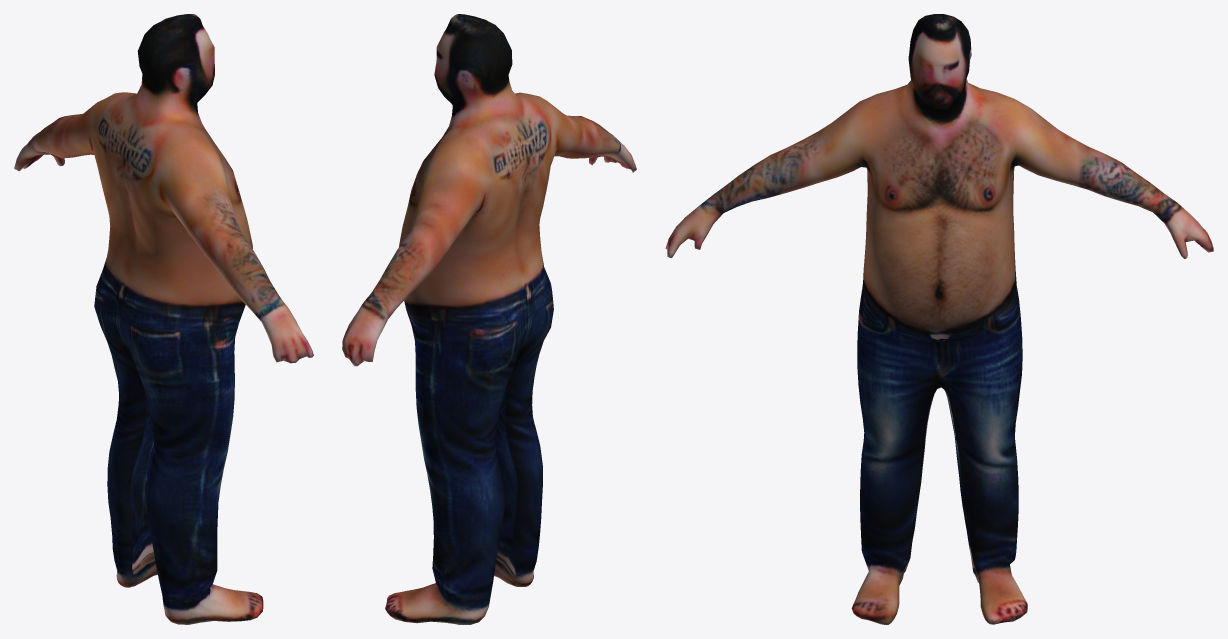
File: 72176ecb4bc6_bert_kreischer__shi.fbx
3 renders of one model, left to right at view 1: azimuth 30°, elevation 25°; view 2: azimuth 150°, elevation 25°; view 3: azimuth 270°, elevation 25°, orthographic.
Parts seen in each view (by area): view 1: mesh; view 2: mesh; view 3: mesh.
Part boxes in pixels (x1,y1,x2,y2): mesh: [14, 14, 313, 624]; mesh: [342, 14, 636, 624]; mesh: [665, 14, 1213, 624].
Size of the model in its own units: 22.86 by 99.95 by 85.09.
